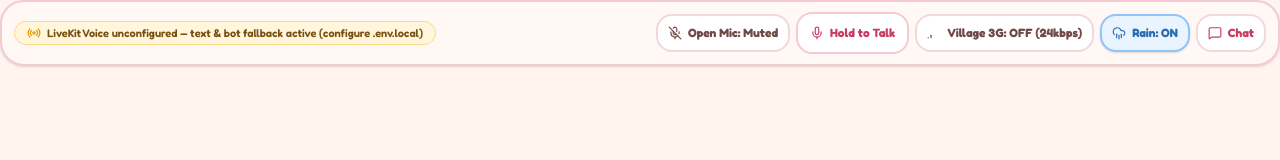
components/VoiceBar (F-18, F-19, F-20, F-21, F-22) › engages Hold-to-Talk (PTT) on pointerdown and releases cleanly on pointerup, pointercancel, pointerleave, and window blur without mutating Open Mic
Later steps or results of the test are not shown.
Press the mouse on the button with test id "hold-to-talk-button" at (853, 33), box [796,12,909,54]
Press the mouse on the button with test id "hold-to-talk-button" at (853, 33), box [796,12,909,54]
Press the mouse on the button with test id "hold-to-talk-button" at (853, 33), box [796,12,909,54]
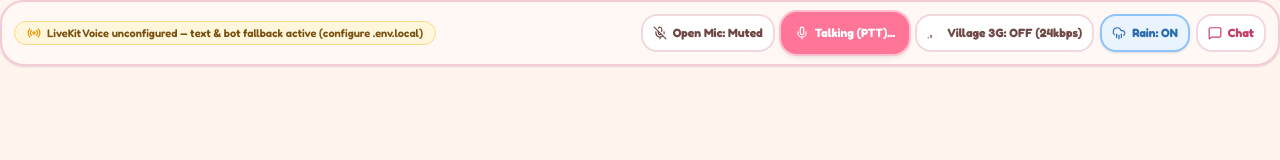
Check: the button with test id "hold-to-talk-button" is pressed
Move the pointer off the button with test id "hold-to-talk-button", box [781,12,909,54]
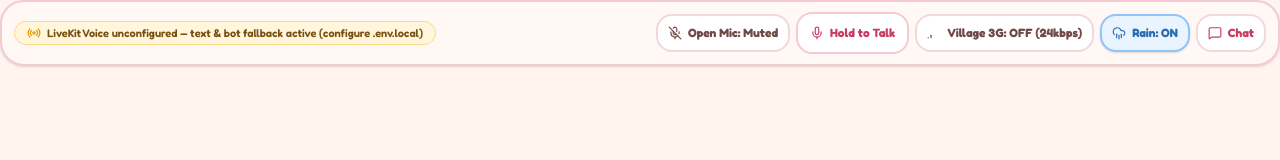
Press the mouse on the button with test id "hold-to-talk-button" at (853, 33), box [796,12,909,54]
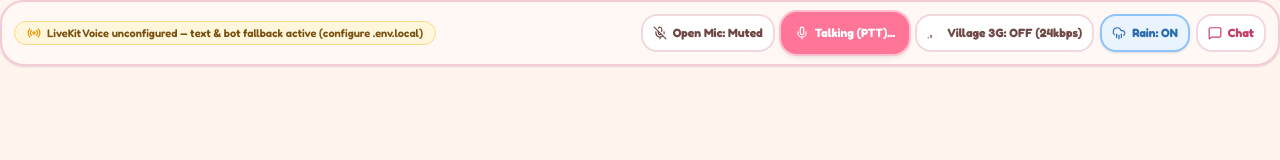
Check: the button with test id "hold-to-talk-button" is pressed, box [781,12,909,54]
